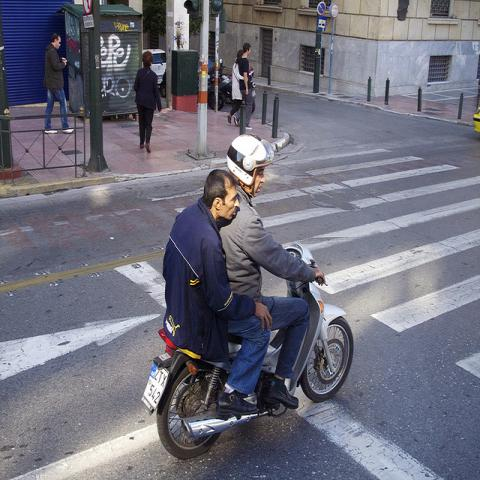car: (142, 48, 166, 86)
motorcycle: (145, 283, 354, 466), (229, 325, 308, 423), (207, 59, 234, 111)
